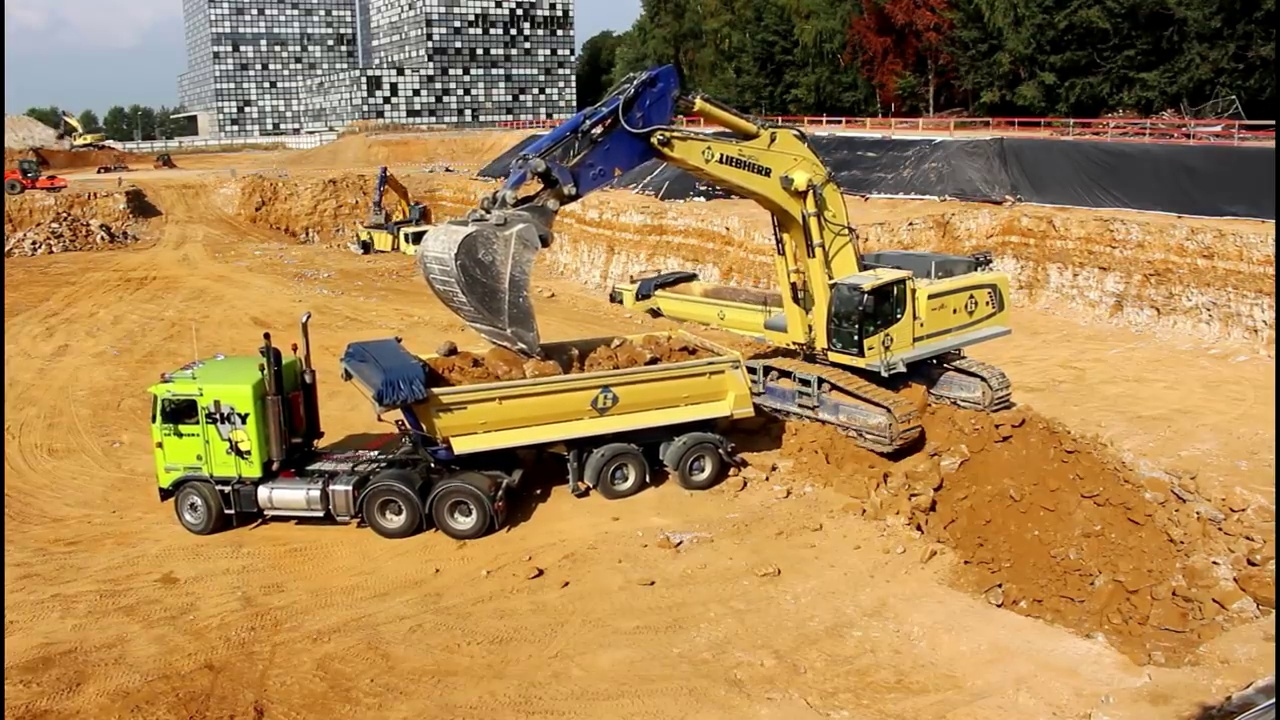compactor: (5, 157, 68, 195)
excavator: (417, 58, 1023, 464), (355, 165, 434, 243), (55, 107, 110, 154)
truck: (140, 309, 762, 545), (607, 268, 906, 383), (357, 221, 453, 269)
